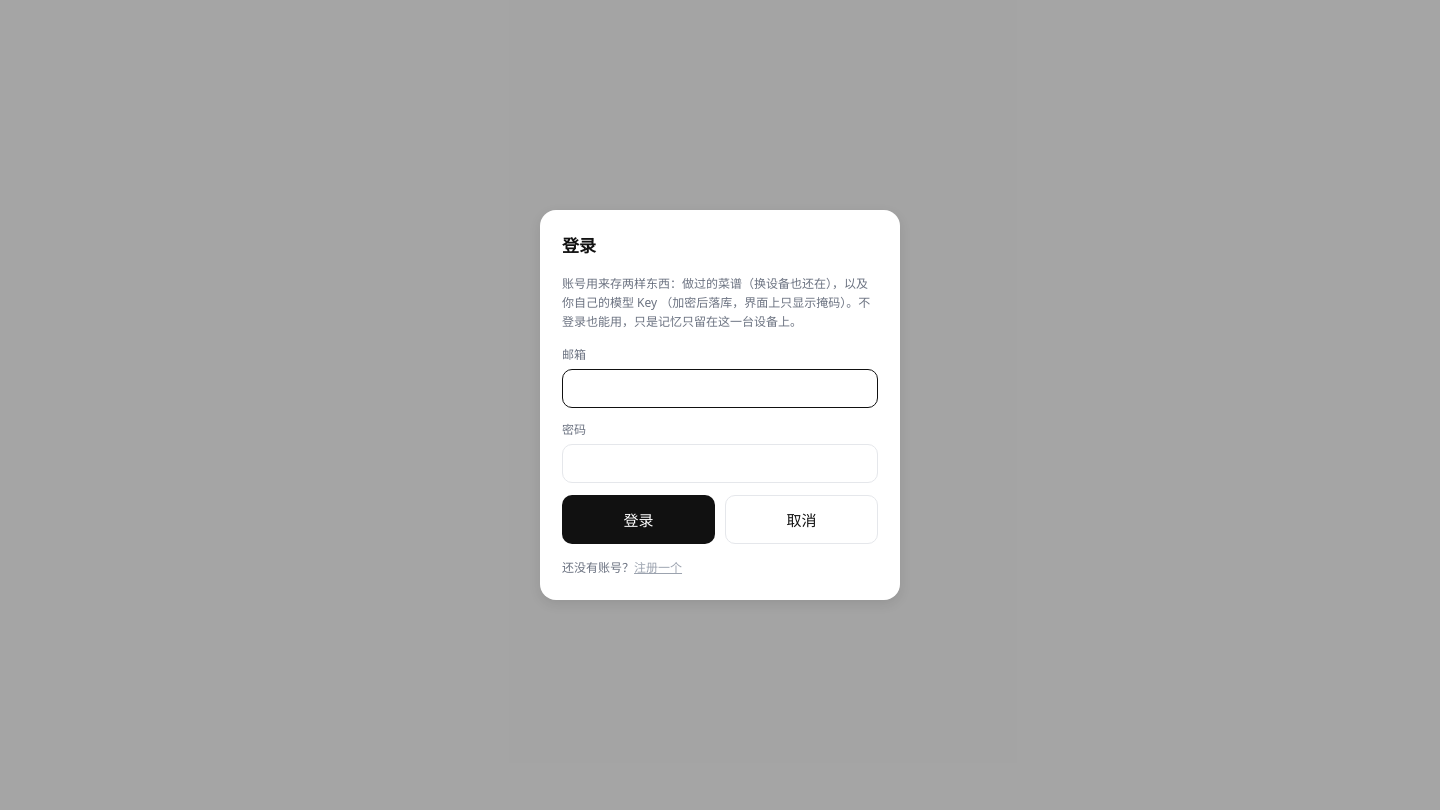
Test case: AuthDialog › 切到注册后多出显示名与密码长度提示
Click the button "注册一个". click: (658, 568)
box: [634,558,682,576]
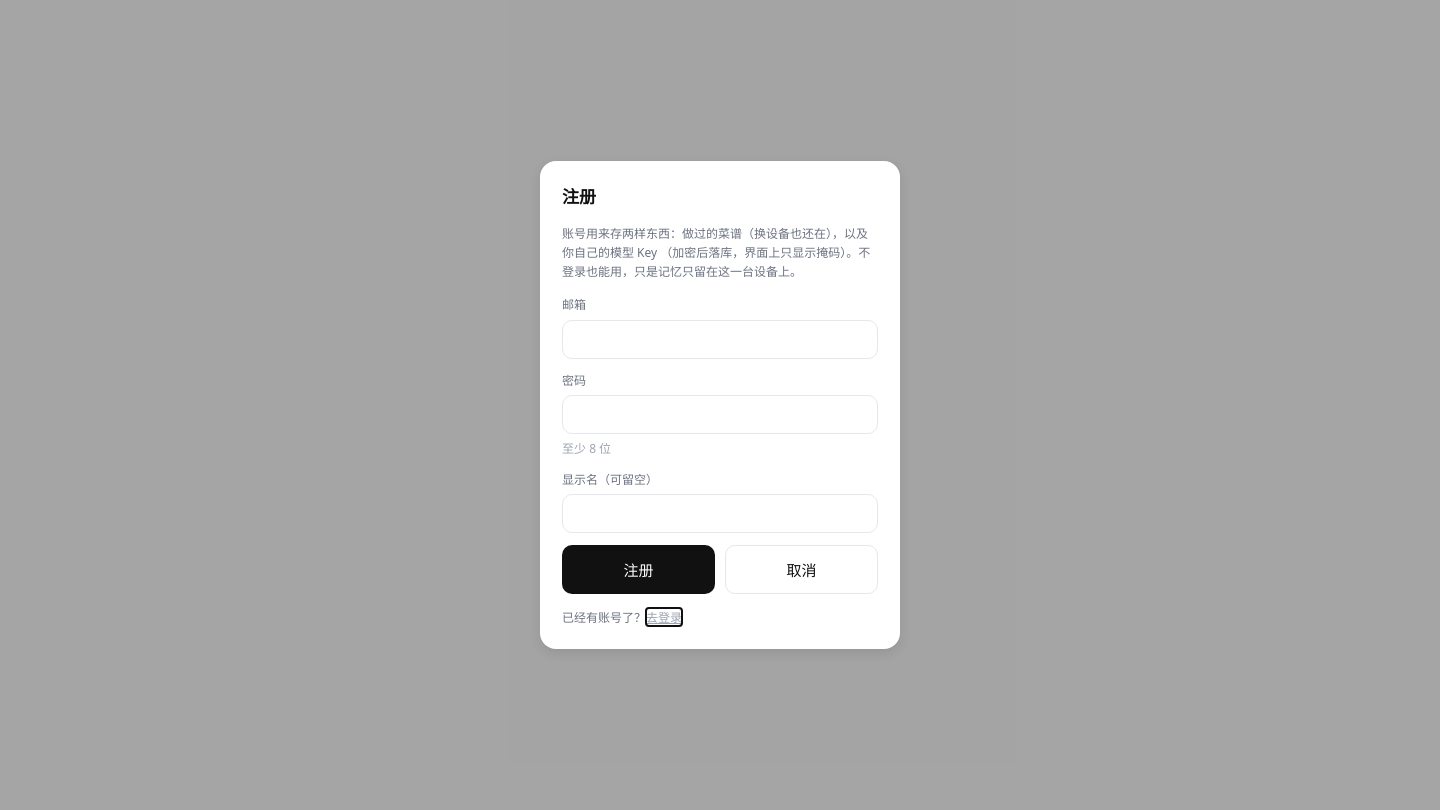
Expected: the dialog "注册" is shown, [540,161,900,649]
Expected: the field labelled "显示名（可留空）" is shown, [562,494,878,533]
Expected: the text "至少 8 位" is shown, [562,440,611,457]
